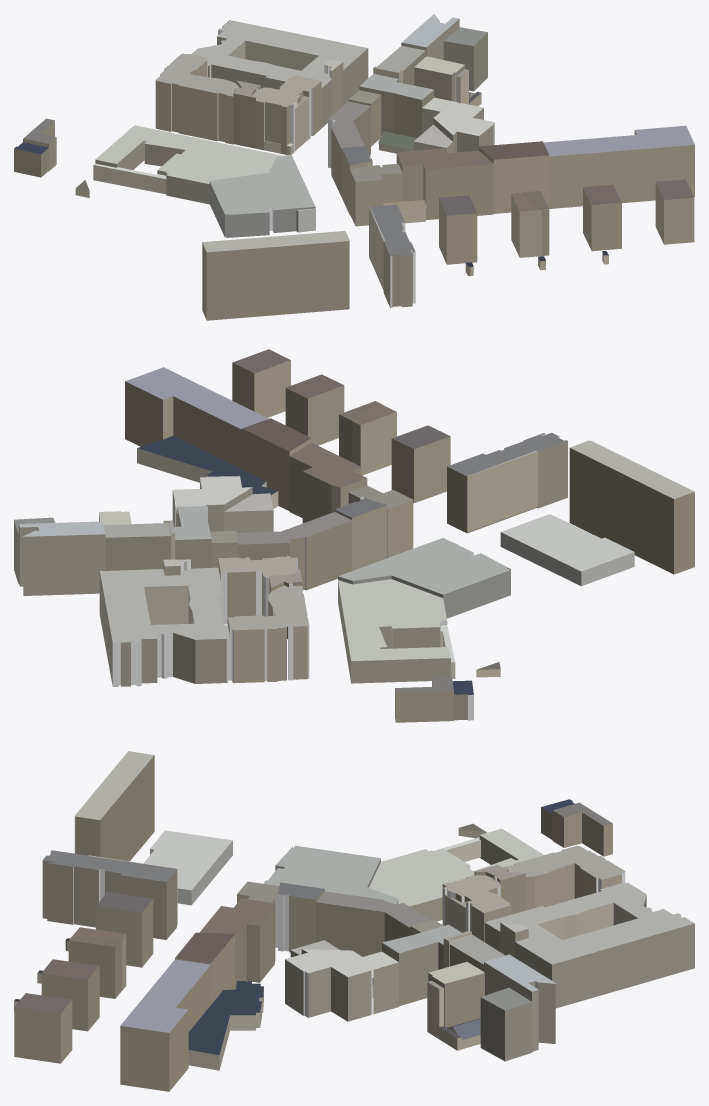
3 views of the same model, one above another, from view 1: azimuth 30°, elevation 25°; view 2: azimuth 150°, elevation 25°; view 3: azimuth 270°, elevation 25° (orthographic). The views are drawn at different scales.
Visible parts, largest first — view 1: tuile; view 2: tuile; view 3: tuile.
Part boxes in pixels (x1,y1,x2,y2): tuile: [14, 14, 694, 320]; tuile: [14, 349, 694, 722]; tuile: [14, 751, 694, 1091].
Size of the model in its own units: 280 by 36.72 by 296.
